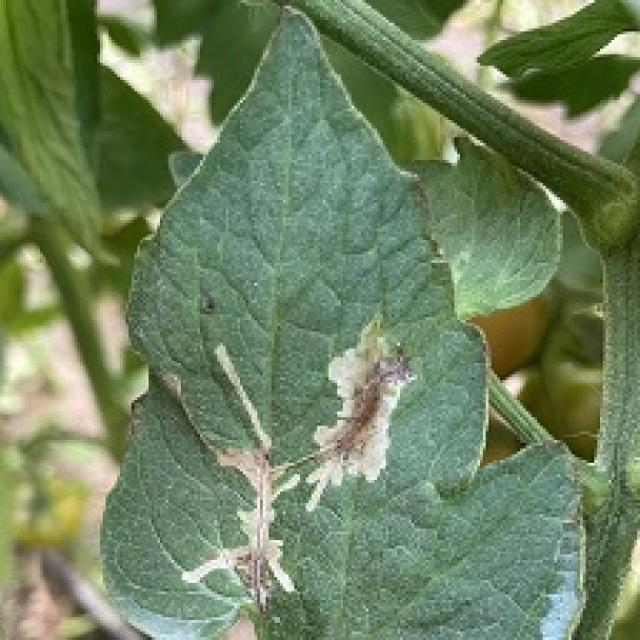Tuta absoluta: (181, 341, 312, 593), (299, 314, 421, 525)
